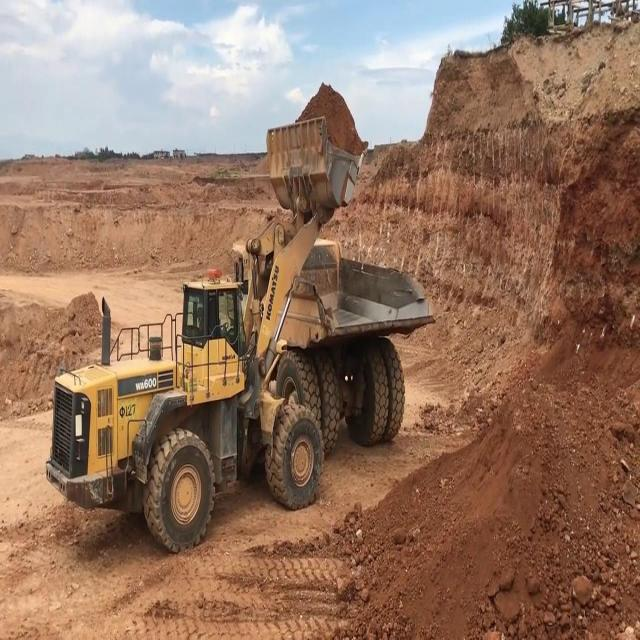Dump Truck: (235, 237, 436, 463)
Loader: (41, 121, 367, 554)
